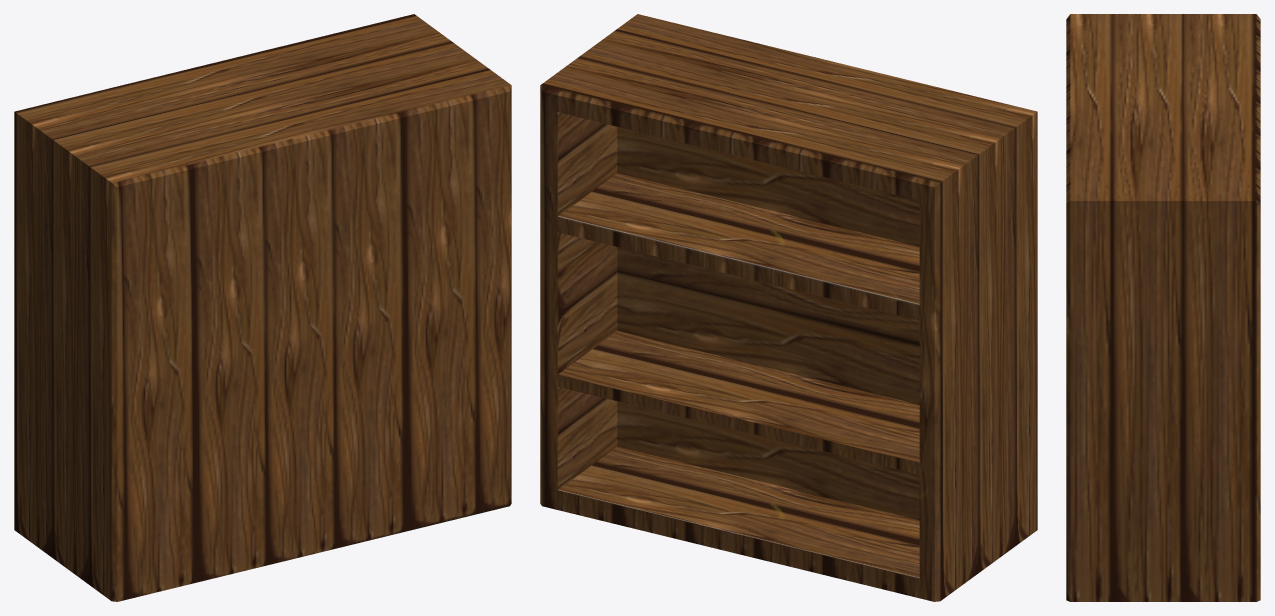
File: bookshelf.fbx
3 views of the same model, side by side, from view 1: azimuth 30°, elevation 25°; view 2: azimuth 150°, elevation 25°; view 3: azimuth 270°, elevation 25° (orthographic). The views are drawn at different scales.
Visible parts, largest first — view 1: bookshelf; view 2: bookshelf; view 3: bookshelf.
Boxes of the visible parts, <box> form: bookshelf: <box>14,14,511,601</box>; bookshelf: <box>540,14,1037,601</box>; bookshelf: <box>1066,14,1260,601</box>.
Bounding box in the file's own units: 222 × 222 × 97.56.
